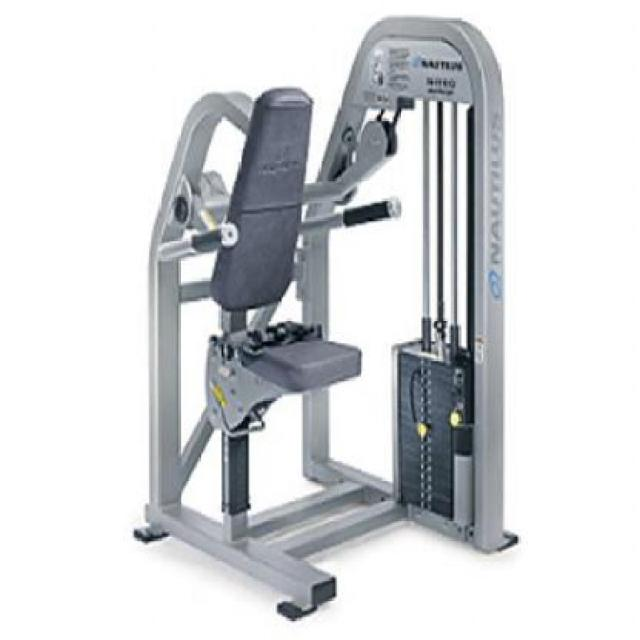seated dip machine: (133, 12, 522, 622)
